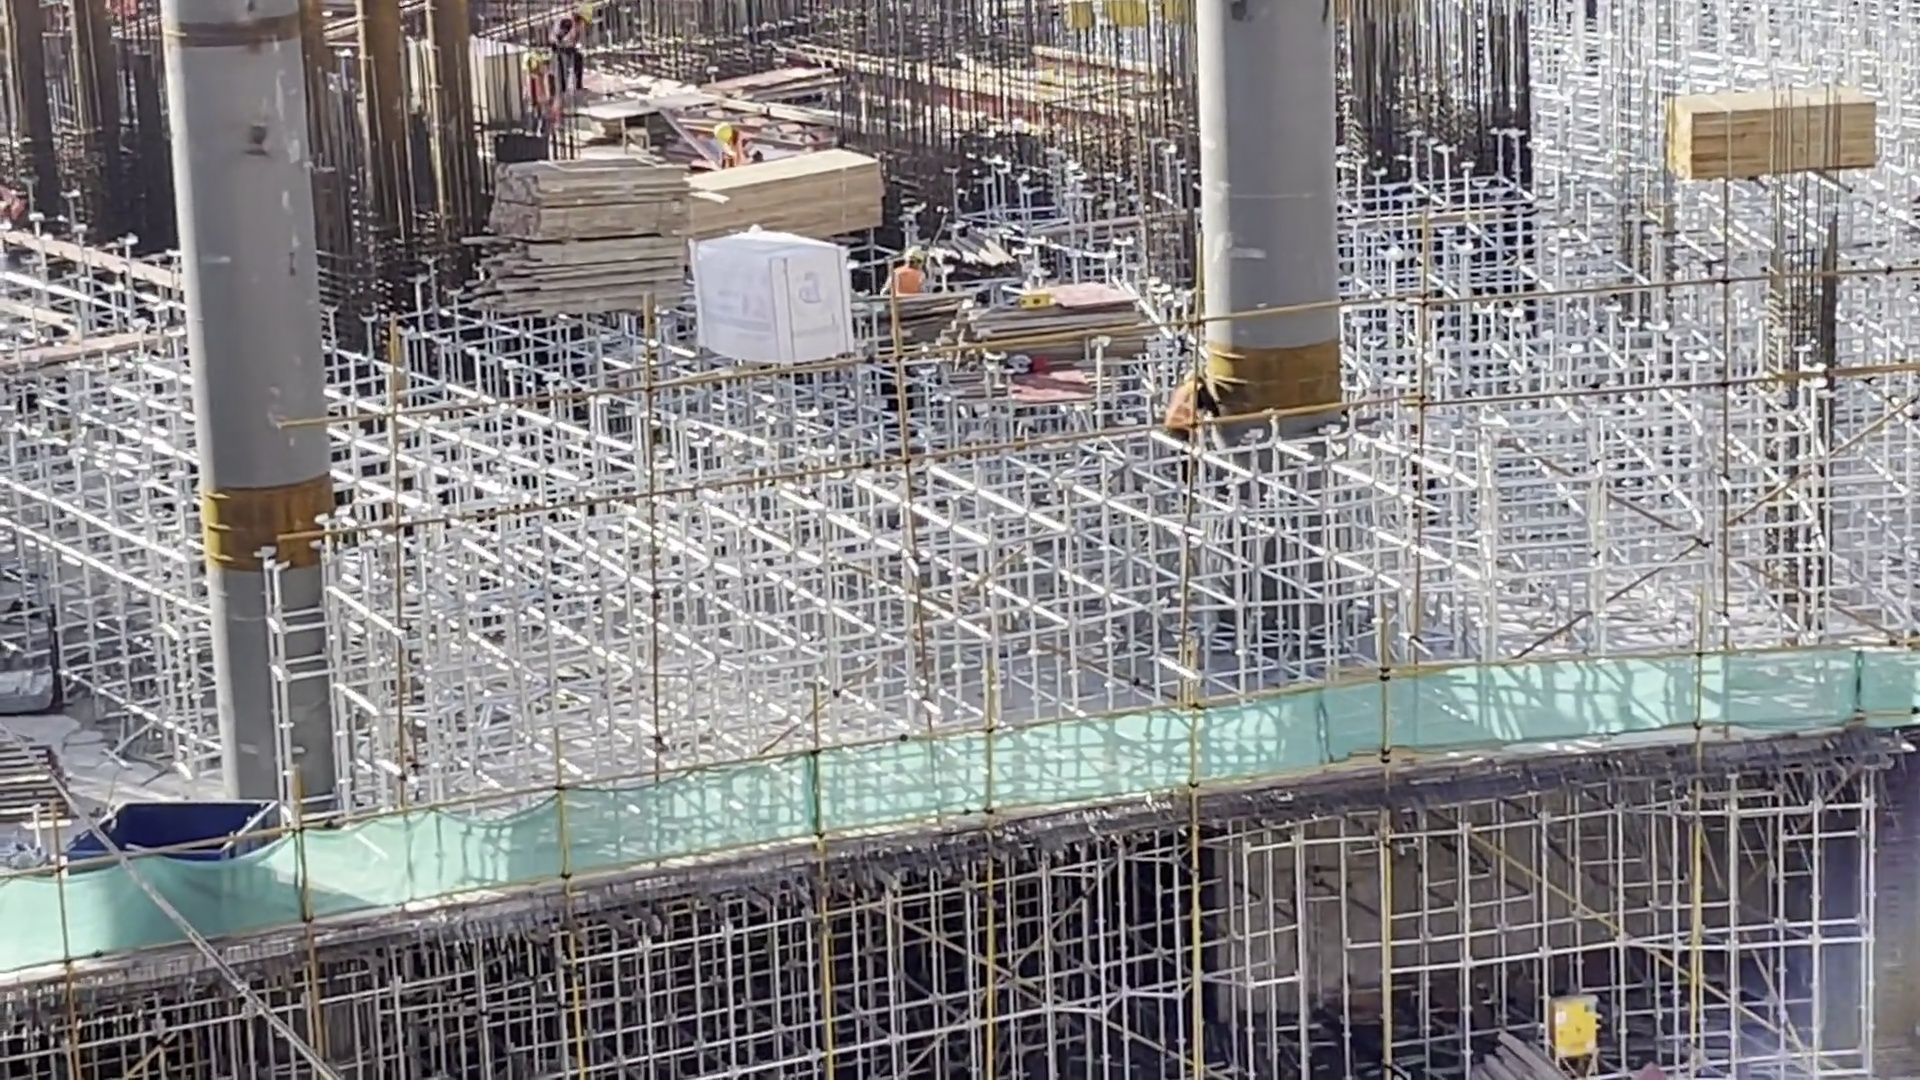board: (967, 275, 1163, 364)
ebox: (1548, 983, 1603, 1078)
helmet: (709, 122, 733, 142), (901, 246, 923, 262), (573, 5, 593, 22)
hopper: (58, 798, 287, 835)
person: (548, 4, 593, 90), (1155, 368, 1219, 425), (706, 121, 763, 166), (882, 246, 931, 296)
vest: (1166, 384, 1204, 421), (721, 136, 754, 166), (892, 266, 926, 295)
wood: (459, 152, 696, 311), (1660, 89, 1884, 183), (696, 143, 888, 237)
